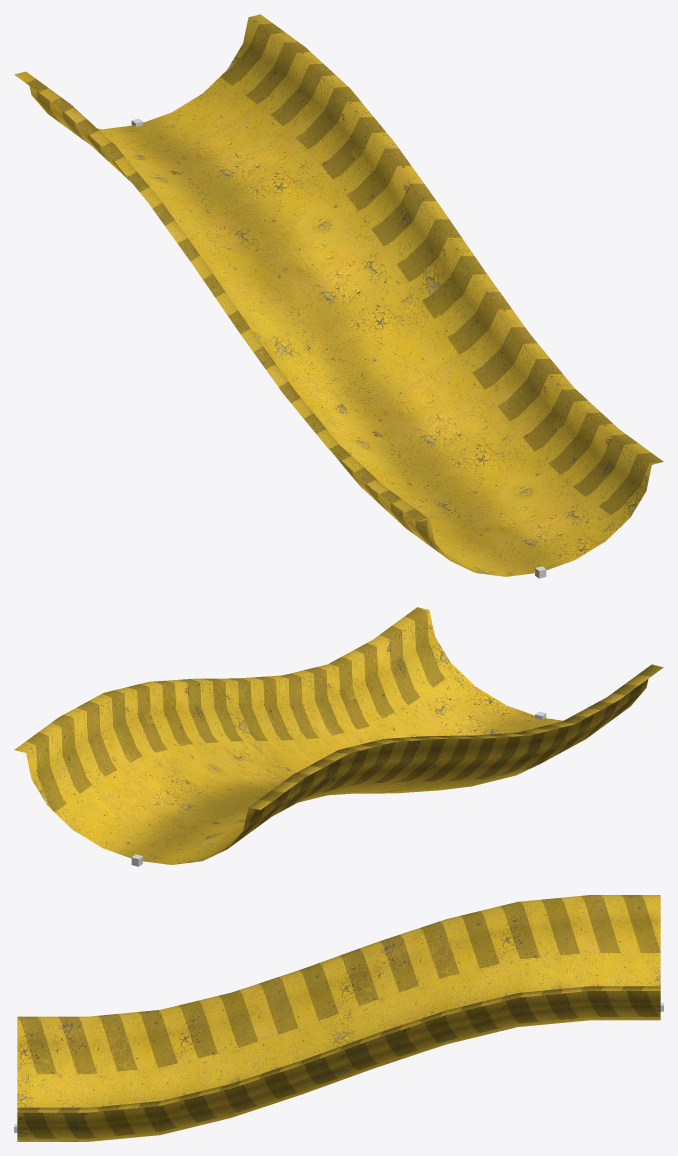
Rendered from roadSlope.up2.fbx.
3 views of the same model, one above another, from view 1: azimuth 30°, elevation 25°; view 2: azimuth 150°, elevation 25°; view 3: azimuth 270°, elevation 25° (orthographic). The views are drawn at different scales.
Visible parts, largest first — view 1: MESH roadSlope.up2; view 2: MESH roadSlope.up2; view 3: MESH roadSlope.up2.
Part boxes in pixels (left/top/right/bottom): MESH roadSlope.up2: left=14, top=14, right=663, bottom=576; MESH roadSlope.up2: left=14, top=607, right=663, bottom=864; MESH roadSlope.up2: left=17, top=895, right=660, bottom=1141.
Size of what is drawn, in the model's own units: 1694 by 1553 by 4850.
